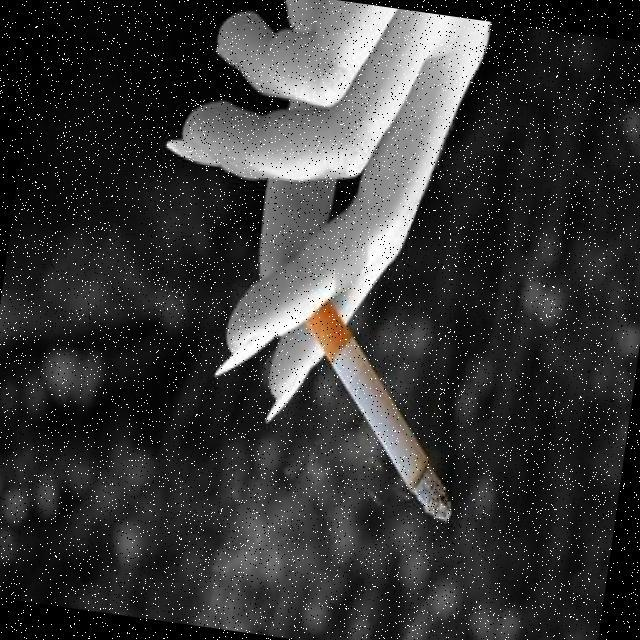cigarette: (270, 276, 490, 534)
